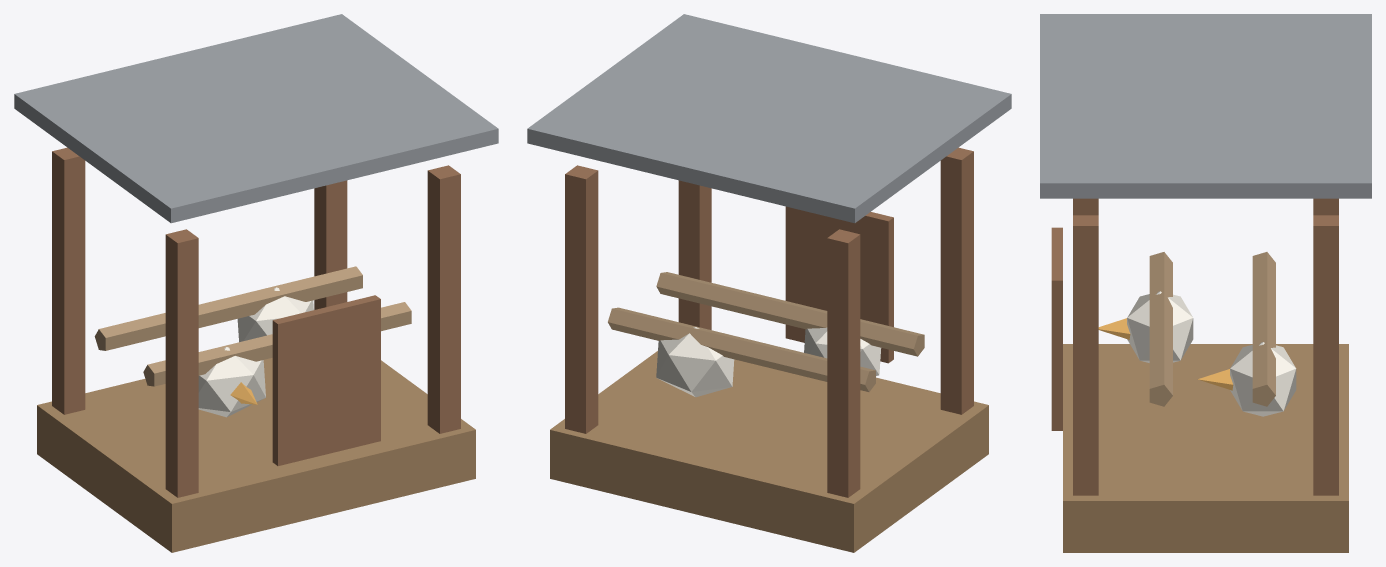
The model's file is chicken_coop.glb.
3 renders of one model, left to right at view 1: azimuth 30°, elevation 25°; view 2: azimuth 150°, elevation 25°; view 3: azimuth 270°, elevation 25°, orthographic. The views are drawn at different scales.
Visible parts, largest first — view 1: floor.001, roof_0, roof_1, door.001, post_1.002, post_0.002, post_3.001, perch_1, post_2.001, hen_0, perch_0, hen_1; view 2: floor.001, roof_0, roof_1, post_2.001, post_3.001, post_0.002, door.001, perch_0, perch_1, post_1.002, hen_1, hen_0; view 3: floor.001, roof_1, roof_0, post_1.002, post_2.001, perch_0, perch_1, hen_1, door.001, hen_0, post_0.002, post_3.001.
Part boxes in pixels (<box>): floor.001: <box>37,358,475,552</box>; roof_0: <box>14,54,339,223</box>; roof_1: <box>174,14,498,183</box>; door.001: <box>272,295,380,465</box>; post_1.002: <box>427,165,460,433</box>; post_0.002: <box>165,229,198,497</box>; post_3.001: <box>52,147,85,414</box>; perch_1: <box>94,266,362,350</box>; post_2.001: <box>314,180,347,309</box>; hen_0: <box>198,347,265,417</box>; perch_0: <box>143,302,411,386</box>; hen_1: <box>237,287,313,342</box>; floor.001: <box>550,351,988,552</box>; roof_0: <box>686,54,1011,223</box>; roof_1: <box>527,14,851,184</box>; post_2.001: <box>565,165,598,433</box>; post_3.001: <box>827,229,860,497</box>; post_0.002: <box>940,147,973,414</box>; door.001: <box>785,206,893,363</box>; perch_0: <box>656,272,924,356</box>; perch_1: <box>608,307,875,391</box>; post_1.002: <box>678,180,711,329</box>; hen_1: <box>656,327,734,397</box>; hen_0: <box>804,327,881,375</box>; floor.001: <box>1063,344,1348,552</box>; roof_1: <box>1040,97,1371,198</box>; roof_0: <box>1040,14,1371,100</box>; post_1.002: <box>1073,215,1098,495</box>; post_2.001: <box>1313,215,1338,495</box>; perch_0: <box>1149,252,1172,406</box>; perch_1: <box>1252,252,1275,406</box>; hen_1: <box>1230,342,1296,416</box>; door.001: <box>1051,227,1062,430</box>; hen_0: <box>1127,291,1193,362</box>; post_0.002: <box>1073,198,1098,215</box>; post_3.001: <box>1313,198,1338,215</box>.
Size of the model in its own units: 1.4 by 1.45 by 1.16.
